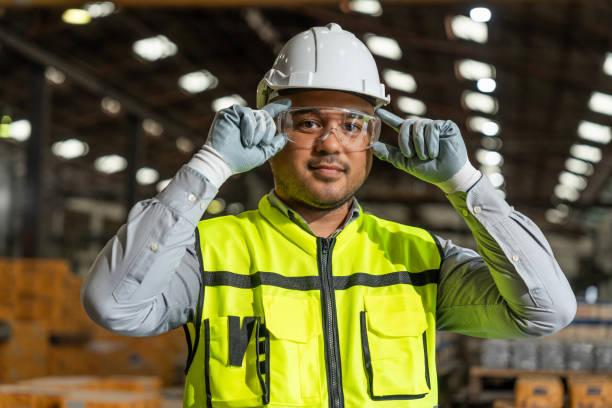capacete: (247, 21, 391, 102)
luva: (376, 109, 473, 186), (193, 101, 291, 161)
oculos de protecao: (279, 108, 383, 153)
pessoa: (117, 23, 570, 408)
uniforme seguranca: (178, 195, 453, 408)
